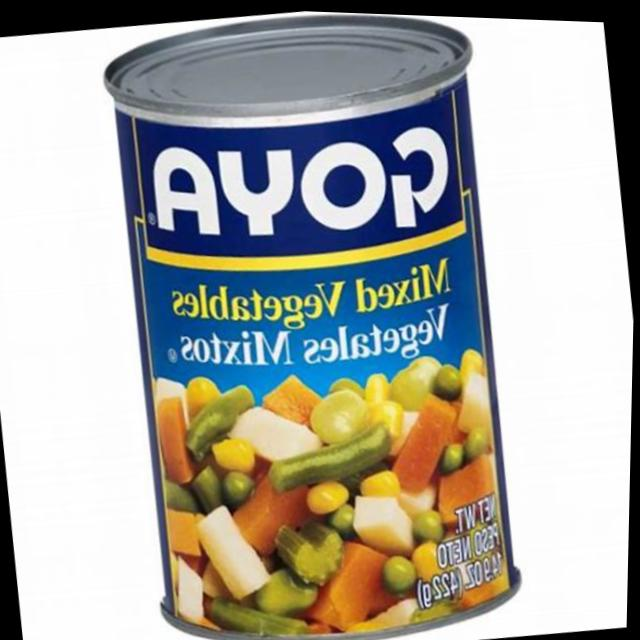Lata: (85, 4, 542, 640)
